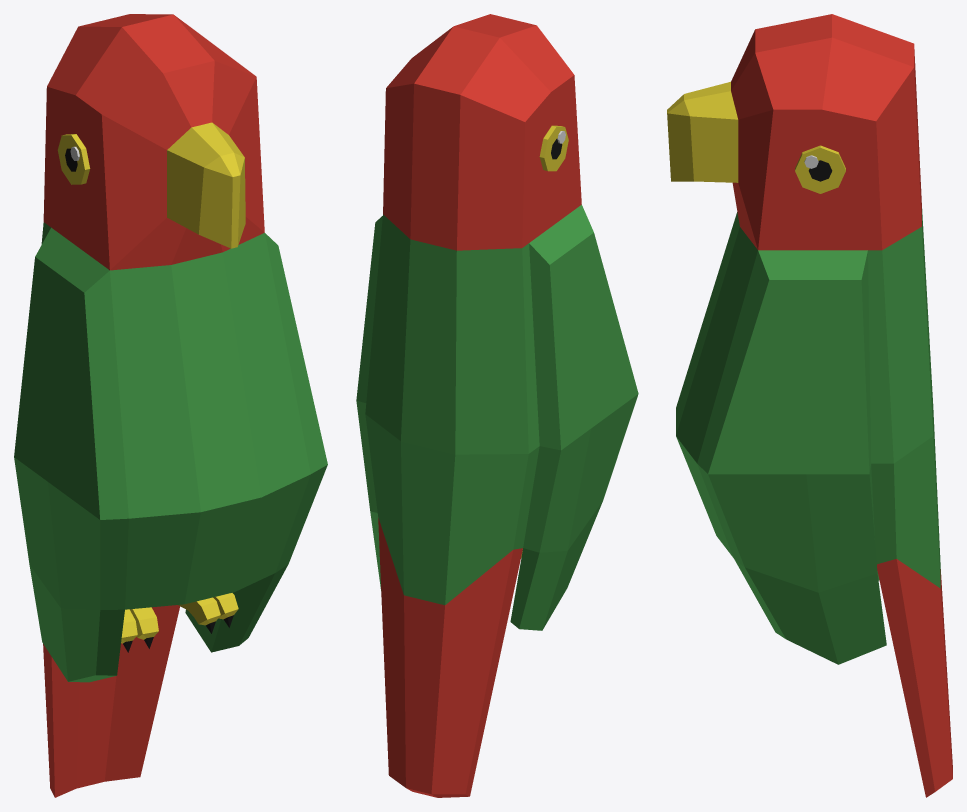
The model's file is Parrot_01.fbx.
3 views of the same model, side by side, from view 1: azimuth 30°, elevation 25°; view 2: azimuth 150°, elevation 25°; view 3: azimuth 270°, elevation 25° (orthographic). The views are drawn at different scales.
Visible parts, largest first — view 1: Parrot_01; view 2: Parrot_01; view 3: Parrot_01.
Part boxes in pixels (x1,y1,x2,y2): Parrot_01: (14,14,327,797); Parrot_01: (356,14,638,797); Parrot_01: (667,14,952,797).
Size of the model in its own units: 2.74 by 9.25 by 3.17.
